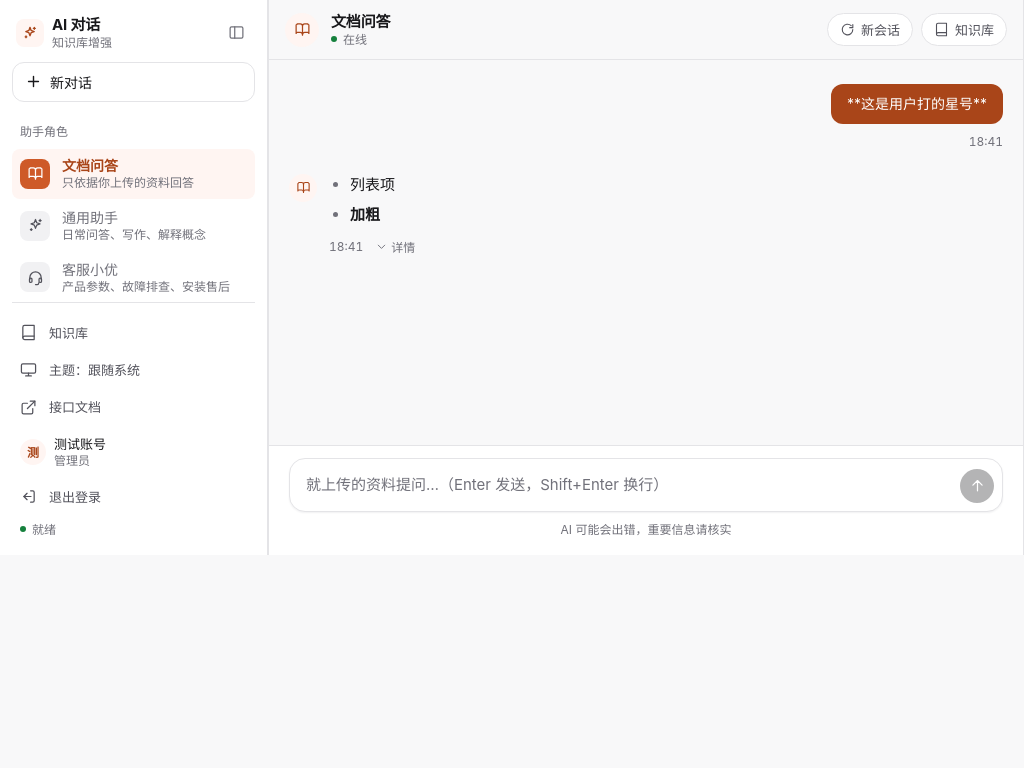
Test: 应用外壳挂载 › 用户消息走纯文本、助手消息走 markdown 渲染
Expected: the text with class "bubble-user" reads "**这是用户打的星号**", left=847, top=95, right=987, bottom=112
Expected: the list "列表项 加粗" is shown, left=350, top=175, right=395, bottom=224
What coordinates should you click on to do the following:
click the button with class "details-toggle"
I would click on:
 (395, 246)
Its box is left=375, top=238, right=415, bottom=255.
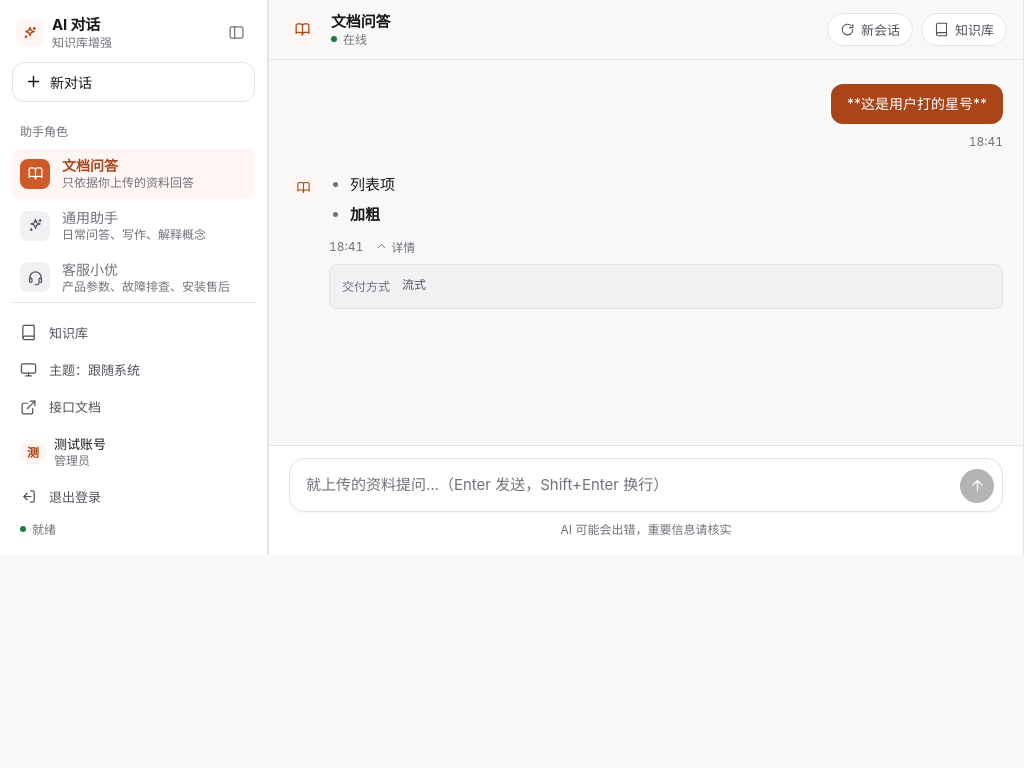
Result: the element with class "details" shows "流式" at left=402, top=279, right=426, bottom=293
